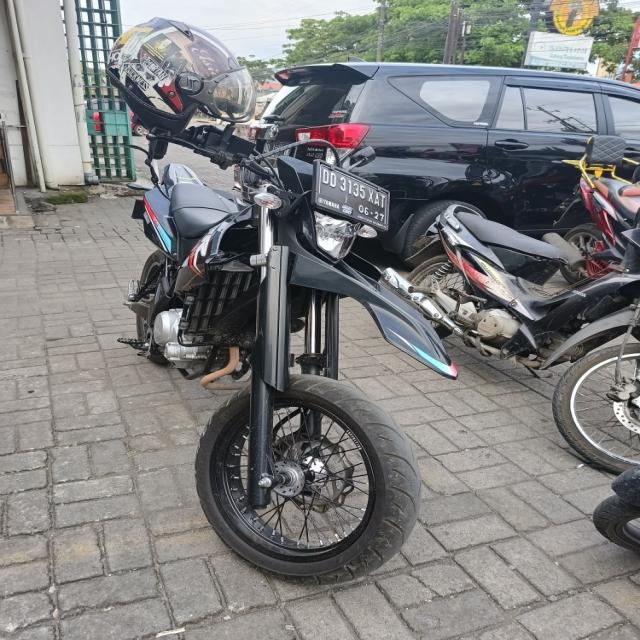plates: (301, 168, 397, 230)
